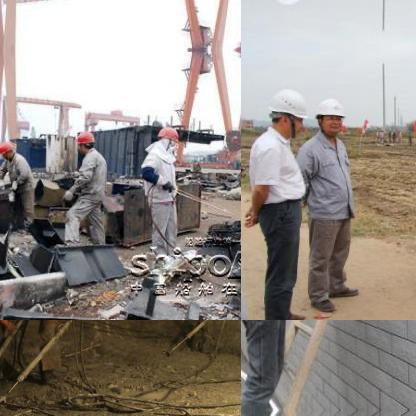Helmet: (266, 84, 310, 138), (310, 93, 348, 135), (154, 122, 180, 146), (74, 129, 94, 153), (265, 0, 312, 8), (0, 137, 17, 158)
